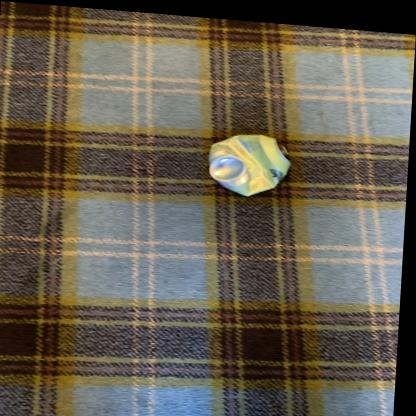trash: (209, 135, 289, 195)
